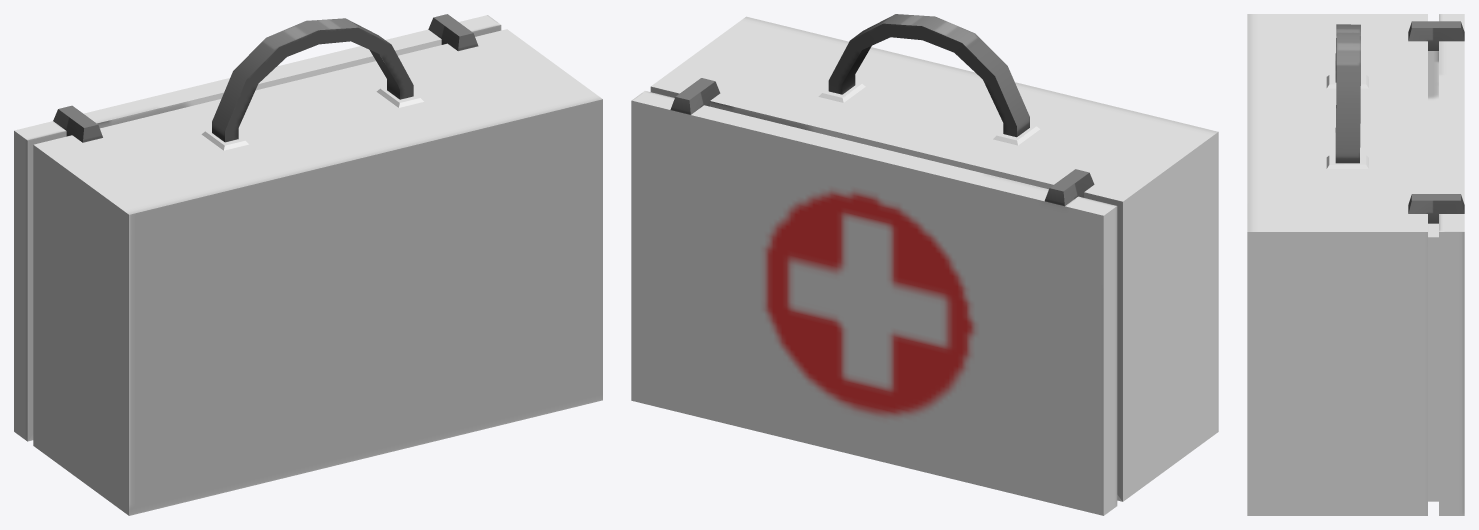
Rendered from medkit.fbx.
The picture shows the model from 3 angles, left to right: view 1: azimuth 30°, elevation 25°; view 2: azimuth 150°, elevation 25°; view 3: azimuth 270°, elevation 25°; orthographic projection. The views are drawn at different scales.
Parts seen in each view (by area): view 1: pCube1; view 2: pCube1; view 3: pCube1.
Part boxes in pixels (x1,y1,x2,y2): pCube1: (14, 14, 602, 515); pCube1: (631, 14, 1218, 515); pCube1: (1247, 14, 1464, 515).
Bounding box in the file's own units: 19.19 × 15.23 × 8.08.
